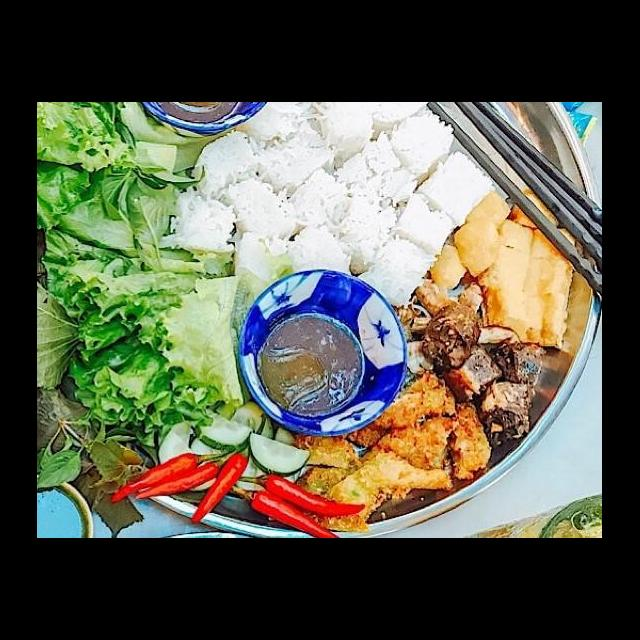bun: (163, 103, 502, 312)
bun dau: (65, 127, 602, 523)
cha com: (292, 366, 503, 533)
dau hu: (426, 182, 584, 355)
doi sun: (412, 291, 548, 450)
